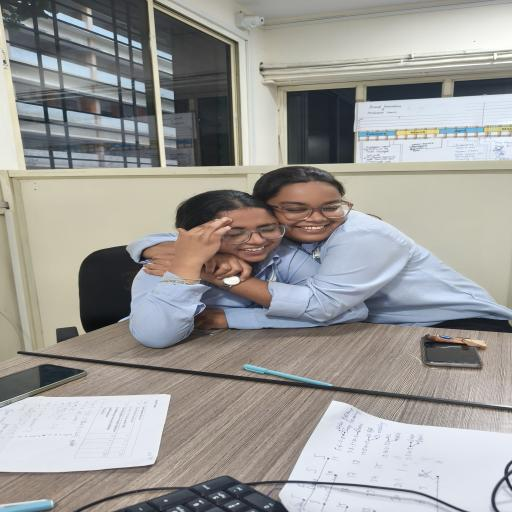survivor: (125, 166, 512, 334), (125, 190, 370, 348)
